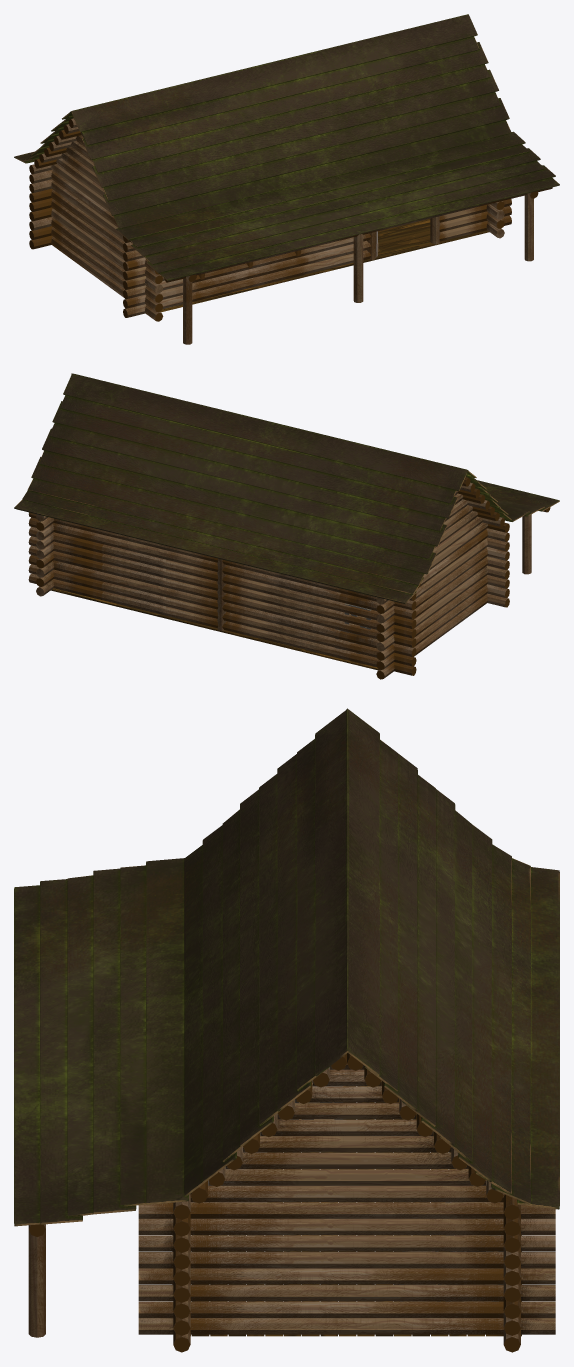
File: rumah2J.fbx
3 renders of one model, top to bottom at view 1: azimuth 30°, elevation 25°; view 2: azimuth 150°, elevation 25°; view 3: azimuth 270°, elevation 25°, orthographic. The views are drawn at different scales.
Parts seen in each view (by area): view 1: Cube.097; view 2: Cube.097; view 3: Cube.097.
Boxes of the visible parts, bbox=[...] form: Cube.097: bbox=[14, 14, 559, 344]; Cube.097: bbox=[14, 373, 559, 679]; Cube.097: bbox=[14, 708, 559, 1352].
Size of the model in its own units: 1398 by 592 by 942.
13 materials, 9 textured.
